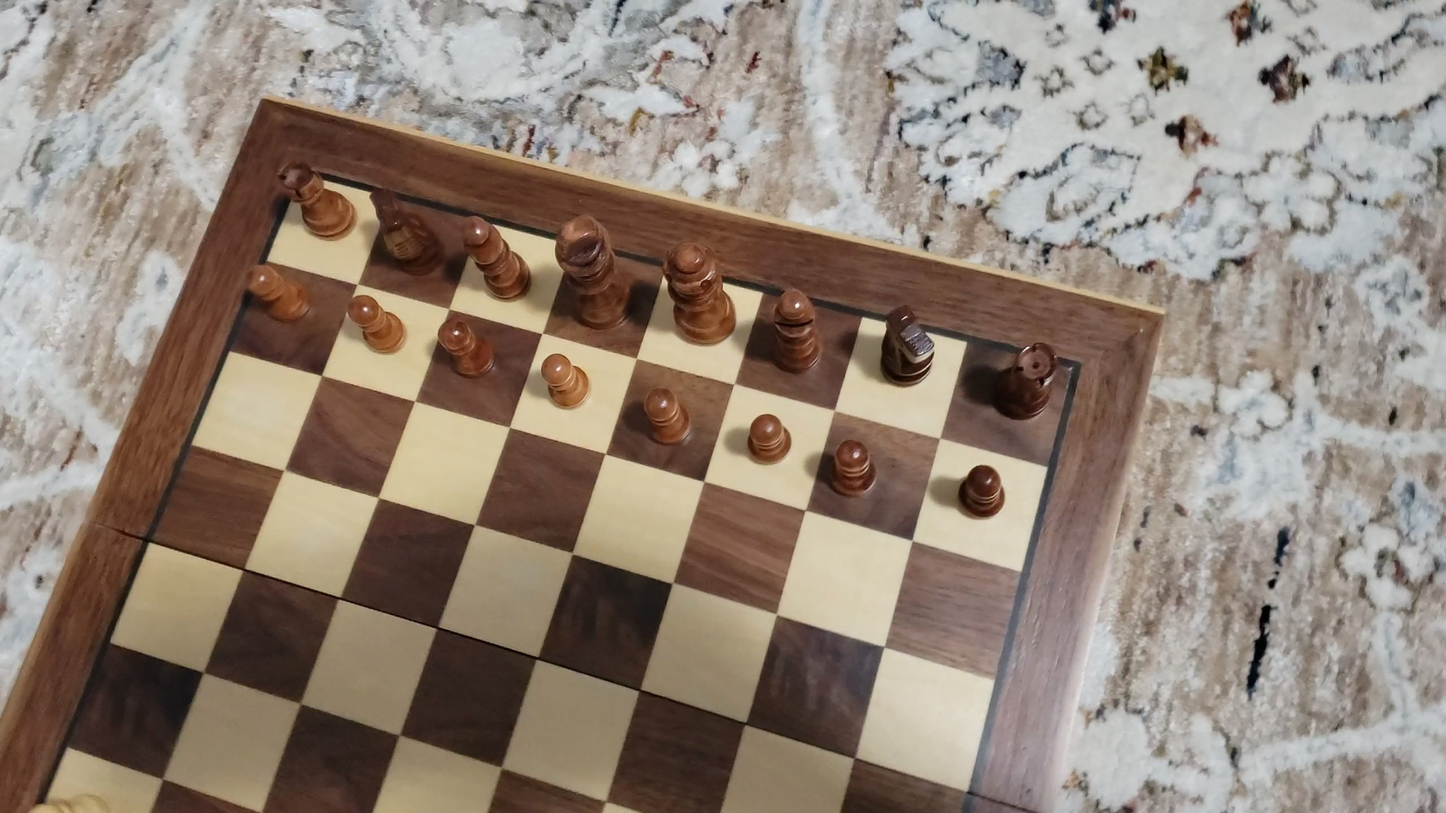black-bishop: (461, 213, 530, 301), (768, 284, 822, 376)
black-king: (553, 211, 633, 331)
black-knight: (366, 184, 443, 276), (876, 301, 938, 388)
black-pawn: (242, 262, 311, 325), (437, 312, 495, 379), (347, 291, 406, 356), (638, 385, 692, 448), (955, 461, 1007, 522), (829, 436, 879, 499), (540, 351, 589, 410), (744, 410, 793, 466)
black-queen: (661, 237, 737, 346)
black-rook: (275, 160, 355, 241), (992, 340, 1061, 421)
